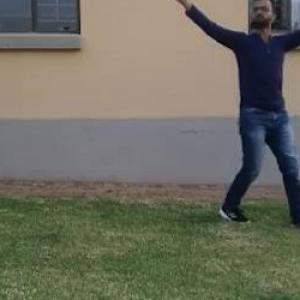takeoff: (168, 0, 299, 229)
